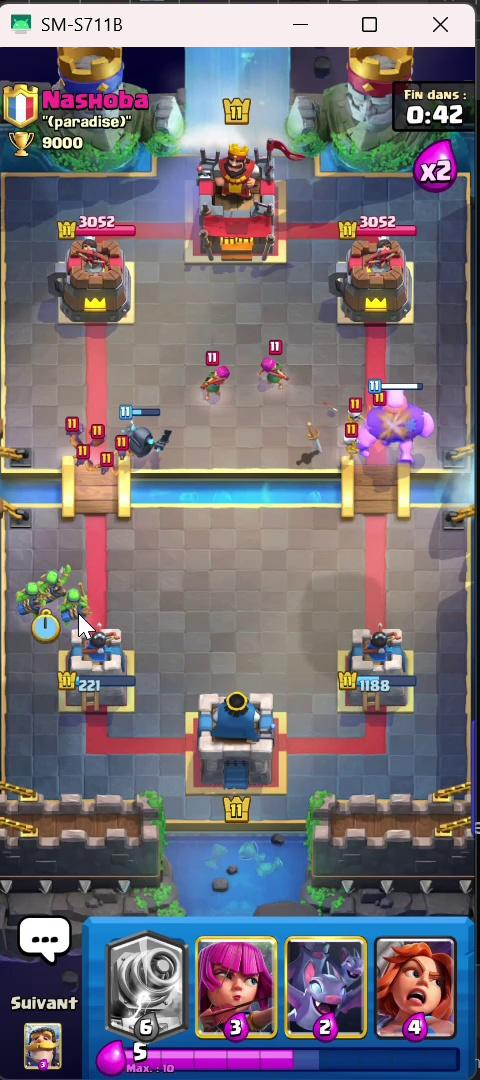archere: (257, 343, 308, 396), (192, 348, 235, 402)
bat: (108, 429, 142, 467), (63, 407, 85, 445), (66, 437, 91, 470), (92, 455, 123, 481), (89, 409, 104, 435)
geant: (367, 370, 432, 464)
gobelin_lances: (33, 562, 80, 604), (56, 584, 101, 626), (12, 571, 49, 620)
mini_PEKKA: (115, 401, 158, 457)
squelette: (362, 384, 399, 415), (333, 425, 364, 462), (339, 399, 371, 428)
